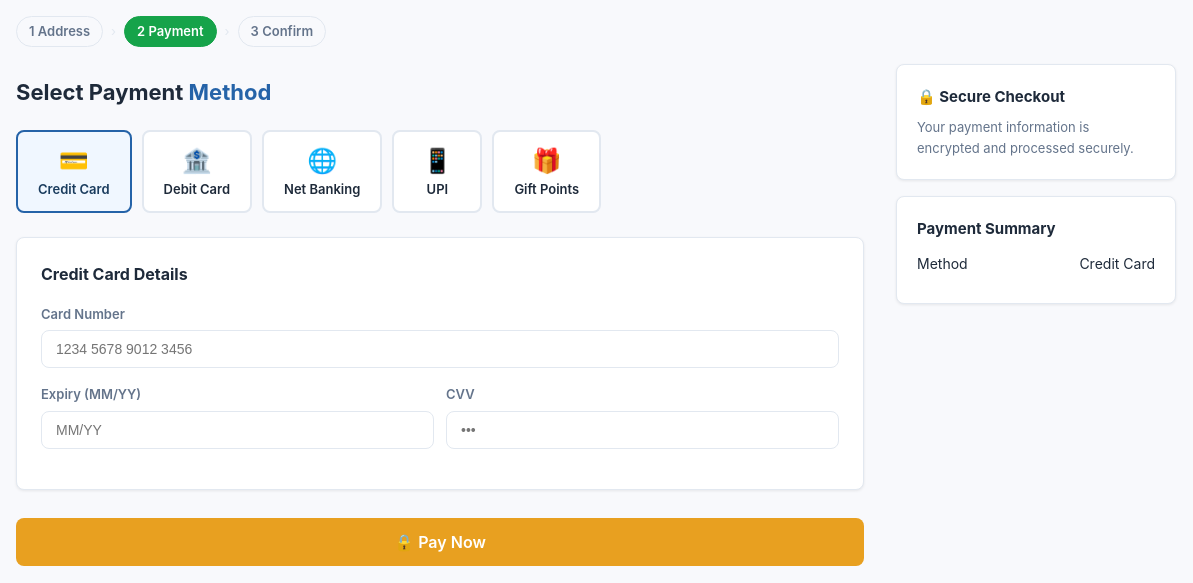
Scenario: PaymentPage › switches forms per method
The image size is (1193, 583).
Click the button "🏦 Debit Card". click: (197, 172)
box: [142,130,252,213]
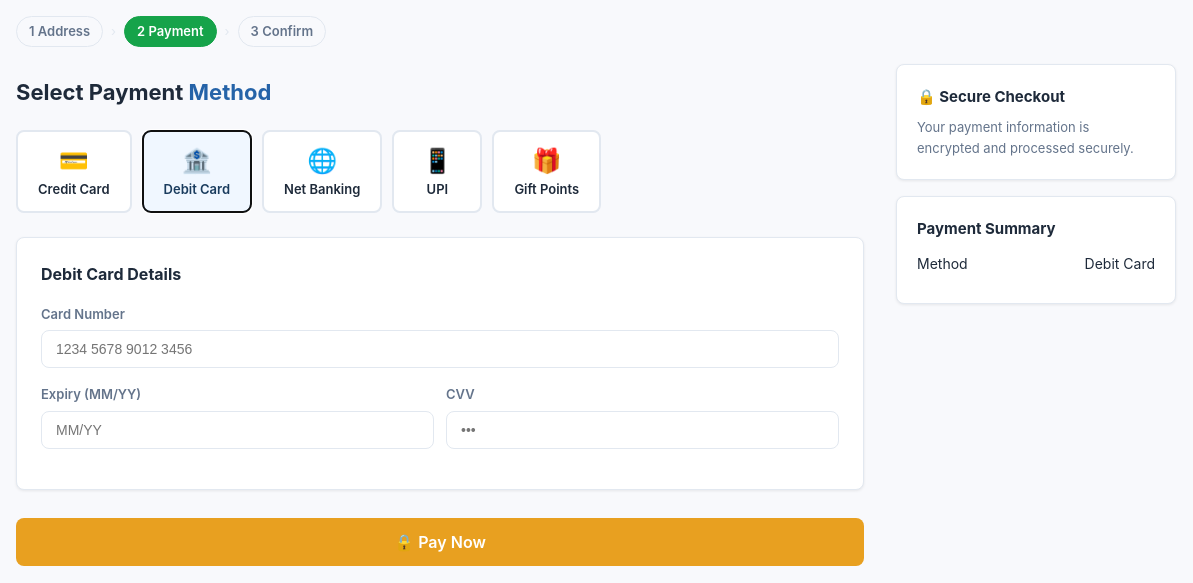
expect the heading "Debit Card Details" is shown: met, box [41,264,181,284]
Click the button "📱 UPI". click: (437, 172)
box: [392,130,482,213]
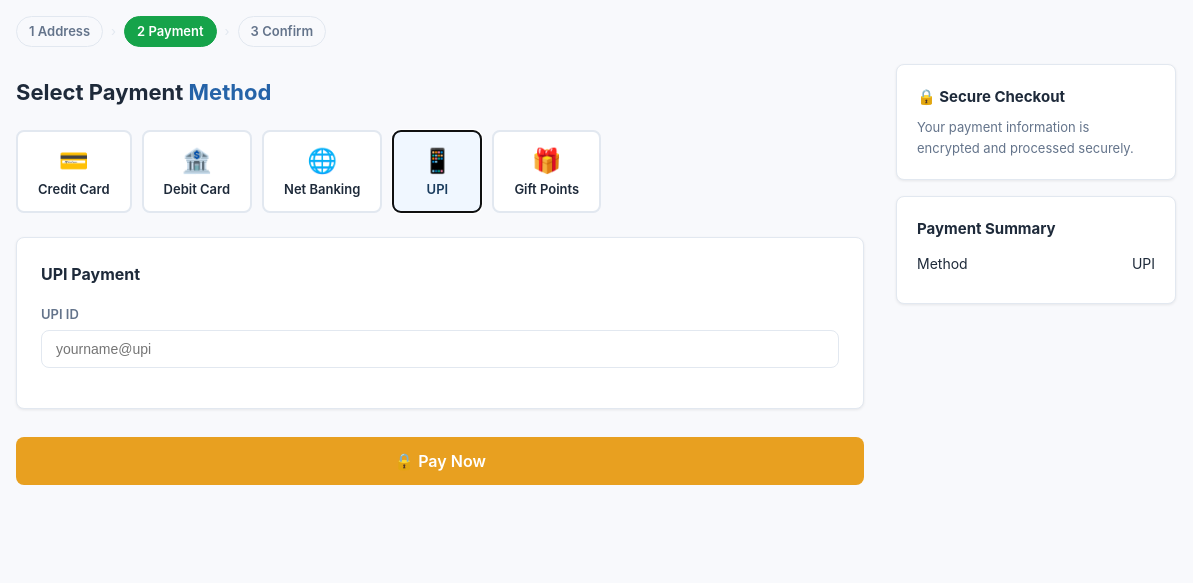
expect the field with placeholder "1234 5678 9012 3456" is not shown: met
Click the button "🌐 Net Banking". click: (322, 172)
box: [262,130,382,213]
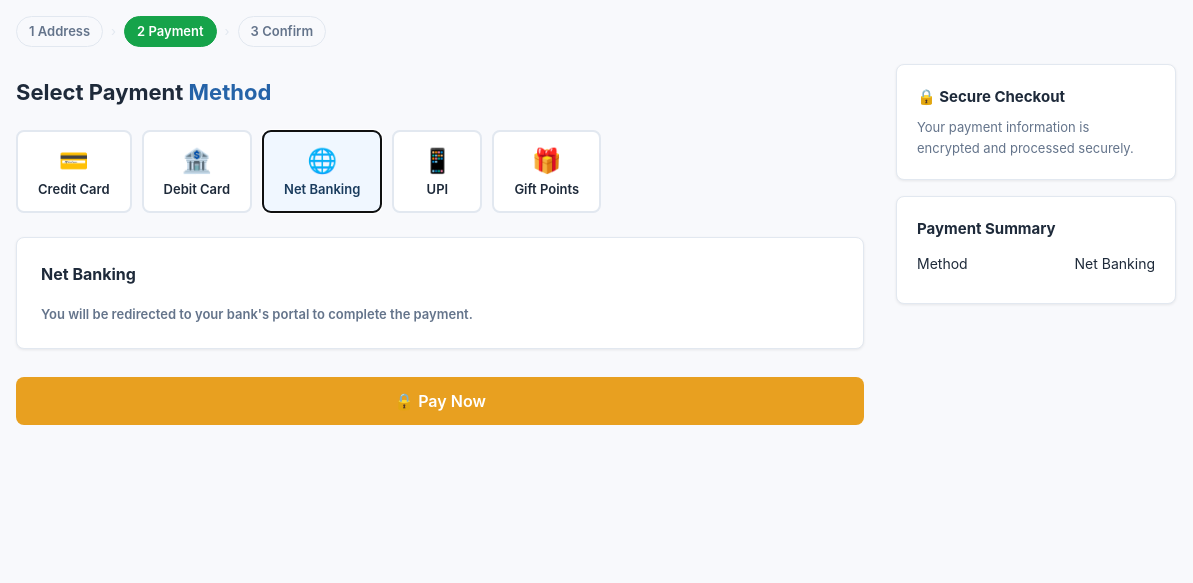
expect the text "redirected to your bank" is shown: met, box [41,306,473,322]
Click the button "🎁 Gift Points". click: (547, 172)
box: [492,130,601,213]
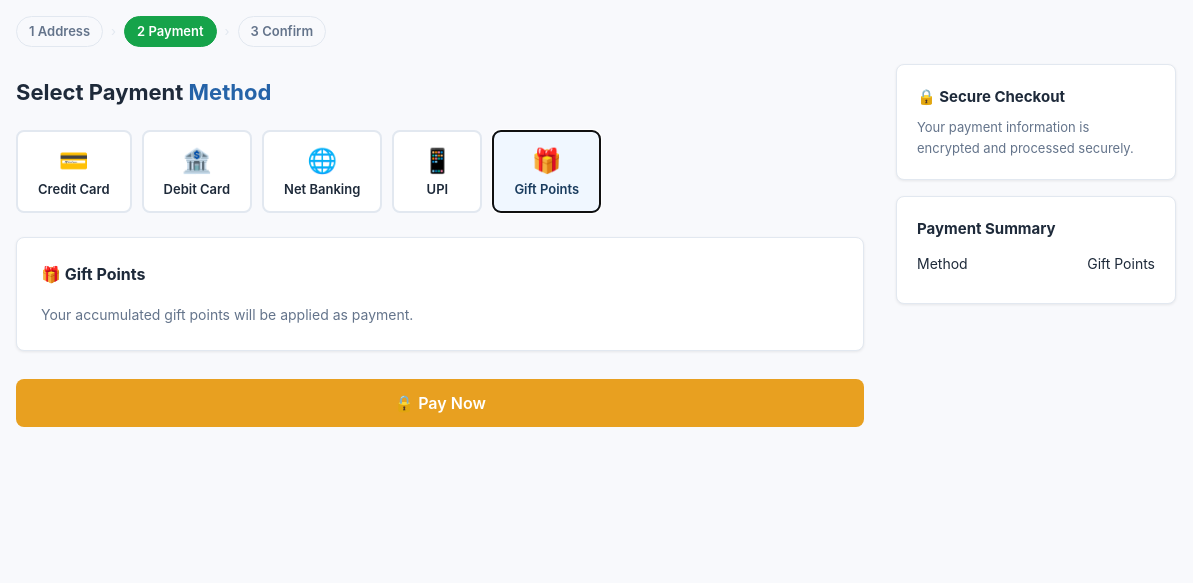
expect the text "Your accumulated gift points will be applied as payment." is shown: met, box [41,306,413,323]
